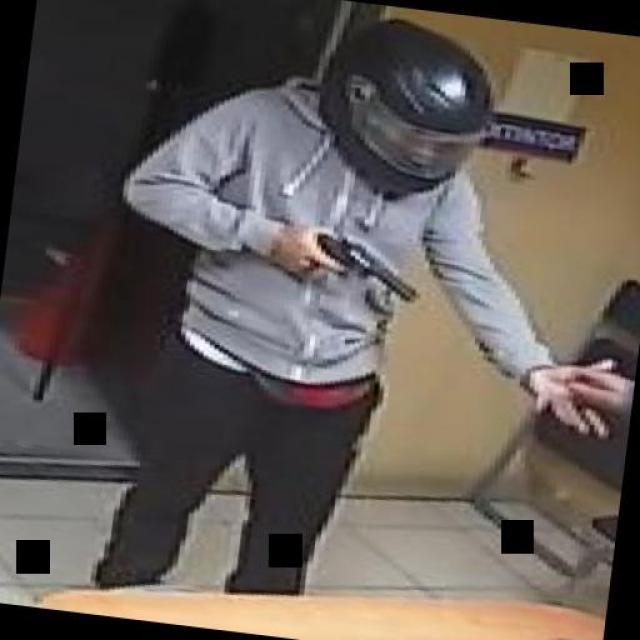gun: (277, 221, 428, 304)
